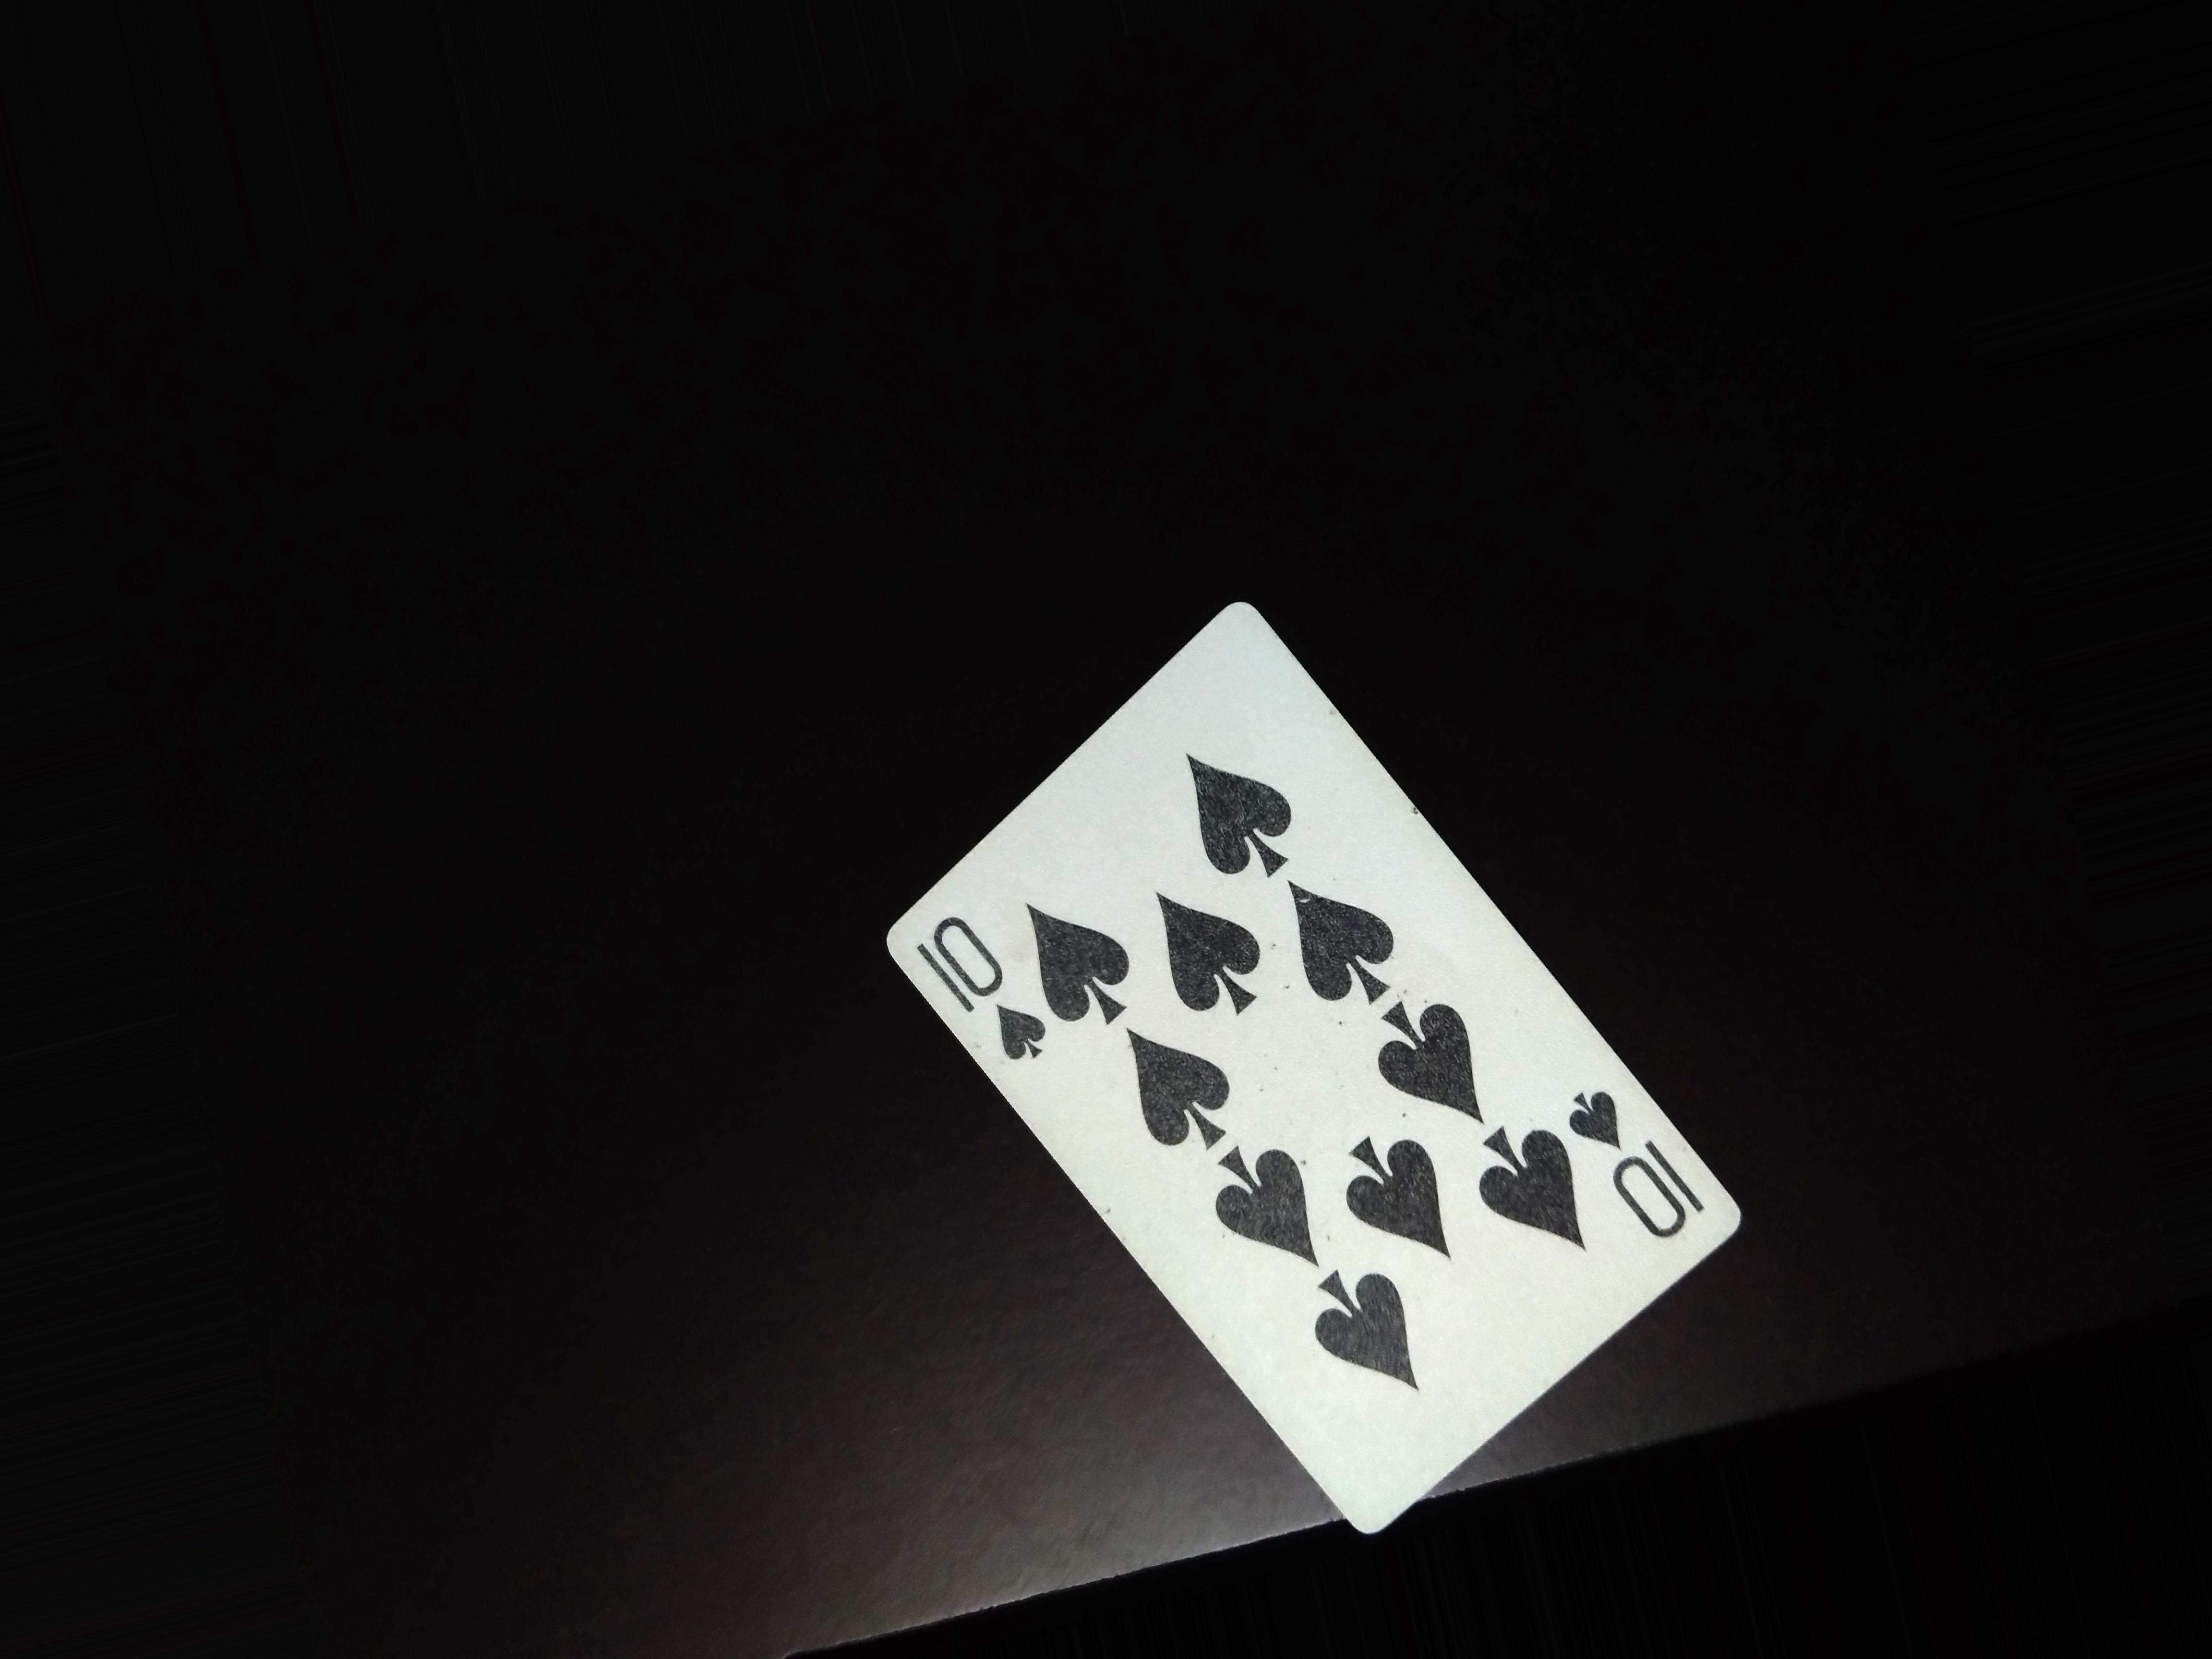10S: (1571, 1068, 1714, 1274)
